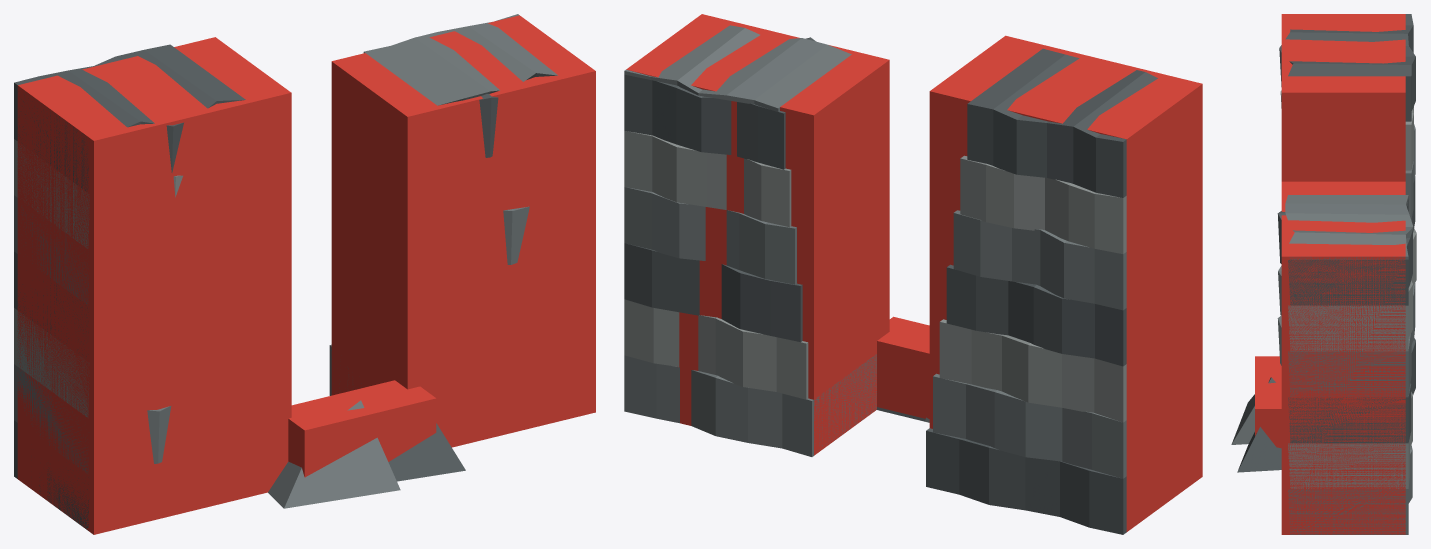
Rendered from ironwind_cliff_breached_16m.glb.
3 views of the same model, side by side, from view 1: azimuth 30°, elevation 25°; view 2: azimuth 150°, elevation 25°; view 3: azimuth 270°, elevation 25° (orthographic). The views are drawn at different scales.
Visible parts, largest first — view 1: ironwind_cliff_breached_16m_wall_left, ironwind_cliff_breached_16m_wall_right, ironwind_cliff_breached_16m_lod0, ironwind_cliff_breached_16m_rubble; view 2: ironwind_cliff_breached_16m_lod0, ironwind_cliff_breached_16m_wall_left, ironwind_cliff_breached_16m_wall_right, ironwind_cliff_breached_16m_rubble; view 3: ironwind_cliff_breached_16m_lod0, ironwind_cliff_breached_16m_wall_right, ironwind_cliff_breached_16m_wall_left, ironwind_cliff_breached_16m_rubble.
Part boxes in pixels (bbox=[...]): ironwind_cliff_breached_16m_wall_left: bbox=[17, 37, 291, 534]; ironwind_cliff_breached_16m_wall_right: bbox=[331, 15, 595, 447]; ironwind_cliff_breached_16m_lod0: bbox=[14, 14, 557, 530]; ironwind_cliff_breached_16m_rubble: bbox=[288, 380, 436, 477]; ironwind_cliff_breached_16m_lod0: bbox=[624, 25, 1157, 534]; ironwind_cliff_breached_16m_wall_left: bbox=[929, 35, 1202, 531]; ironwind_cliff_breached_16m_wall_right: bbox=[626, 14, 889, 455]; ironwind_cliff_breached_16m_rubble: bbox=[877, 316, 929, 418]; ironwind_cliff_breached_16m_lod0: bbox=[1231, 14, 1416, 534]; ironwind_cliff_breached_16m_wall_right: bbox=[1281, 181, 1405, 534]; ironwind_cliff_breached_16m_wall_left: bbox=[1281, 14, 1405, 181]; ironwind_cliff_breached_16m_rubble: bbox=[1255, 356, 1281, 448].
Size of what is drawn, in the model's own units: 16 by 12.09 by 6.28.
